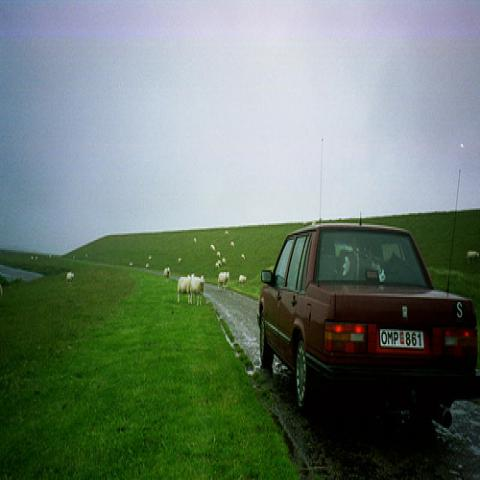car: (258, 222, 479, 432)
